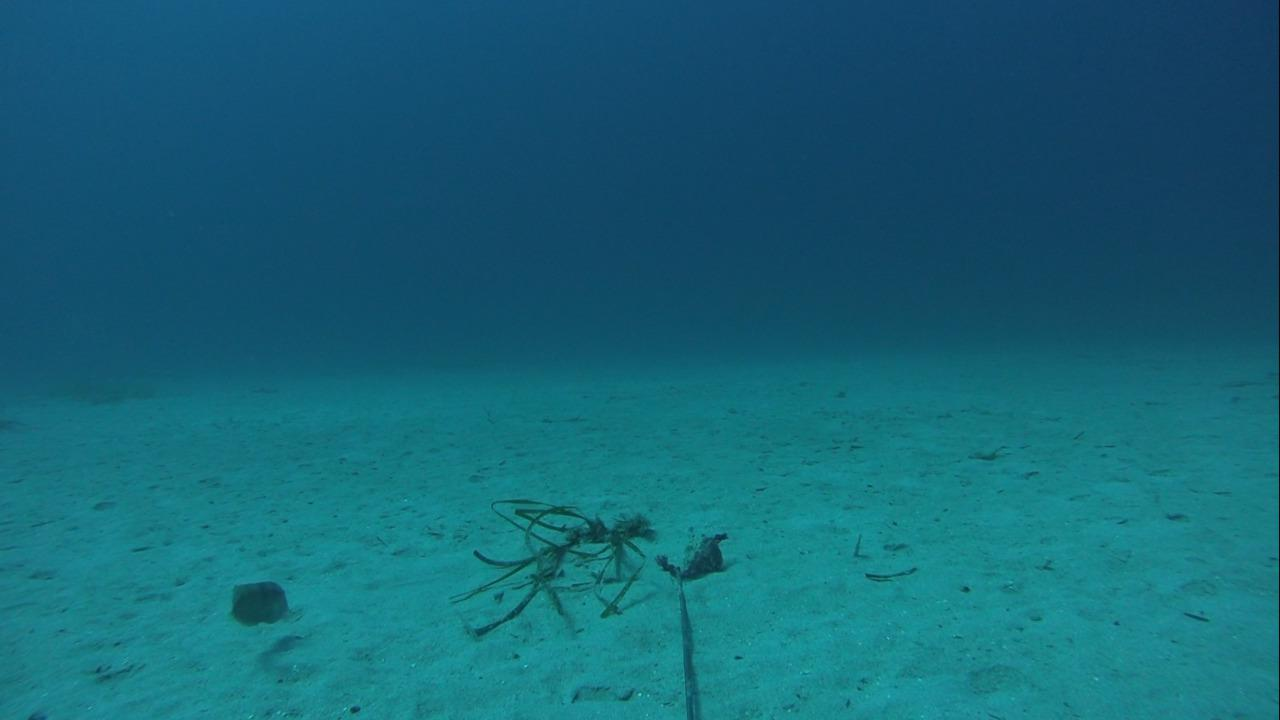raor: (225, 576, 291, 625)
